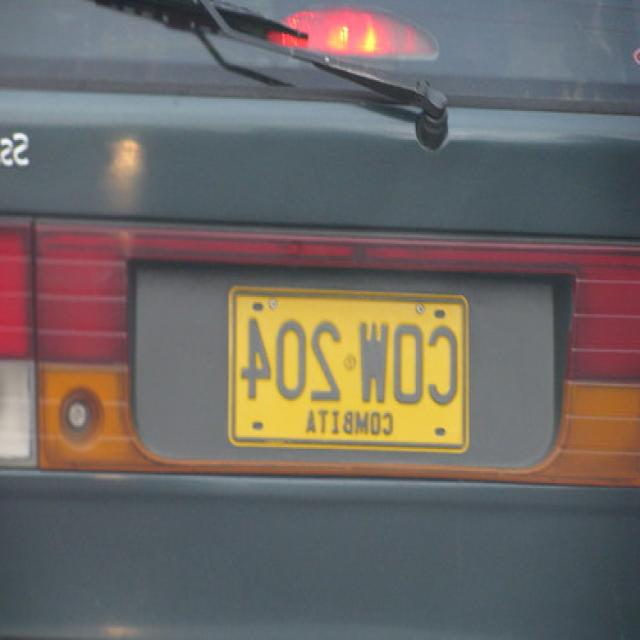placas: (234, 304, 463, 410)
